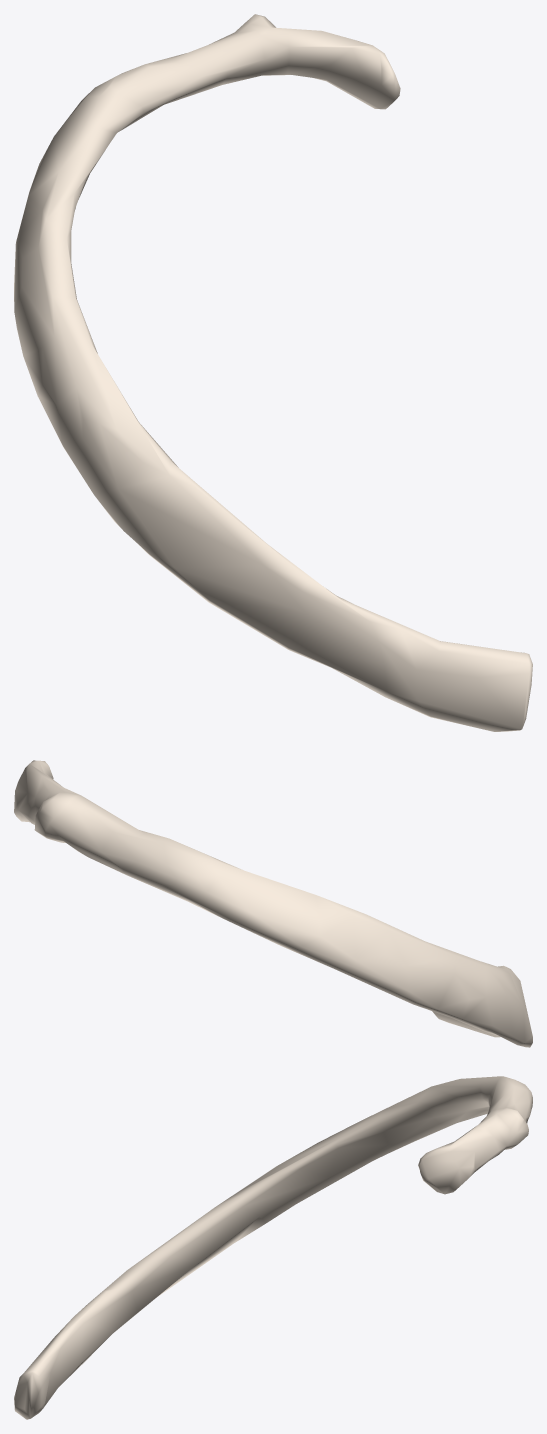
The model's file is right_rib_3.glb.
The picture shows the model from 3 angles, top to bottom: view 1: azimuth 30°, elevation 25°; view 2: azimuth 150°, elevation 25°; view 3: azimuth 270°, elevation 25°; orthographic projection. The views are drawn at different scales.
Visible parts, largest first — view 1: Rib (3rd).r; view 2: Rib (3rd).r; view 3: Rib (3rd).r.
Part boxes in pixels (<box>): Rib (3rd).r: <box>14,14,532,731</box>; Rib (3rd).r: <box>14,760,532,1047</box>; Rib (3rd).r: <box>14,1076,532,1419</box>.
Size of the model in its own units: 0.0574 by 0.0613 by 0.0859.
